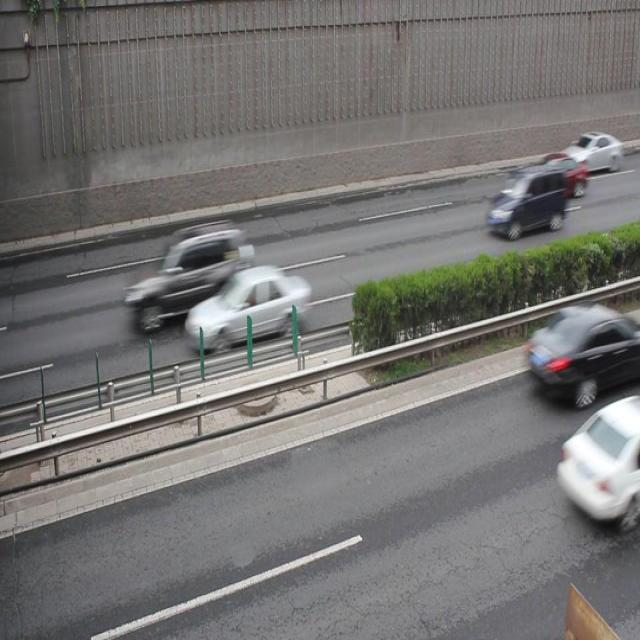car: (127, 218, 252, 332), (522, 302, 640, 402), (186, 261, 310, 353), (524, 152, 586, 200), (562, 131, 622, 172)
truck: (485, 164, 565, 239)
